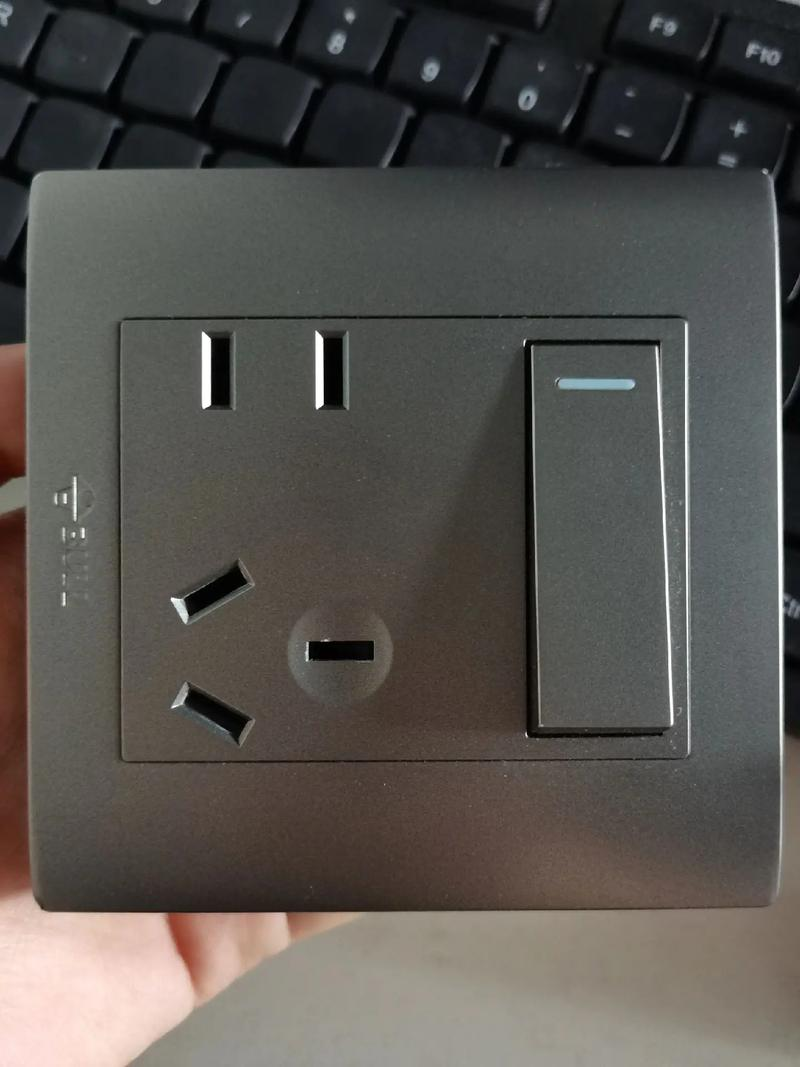button: (24, 165, 786, 918)
